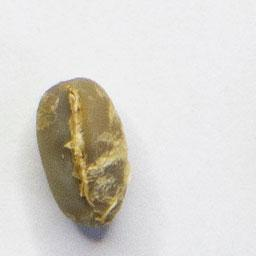peaberry: (33, 73, 135, 232)
